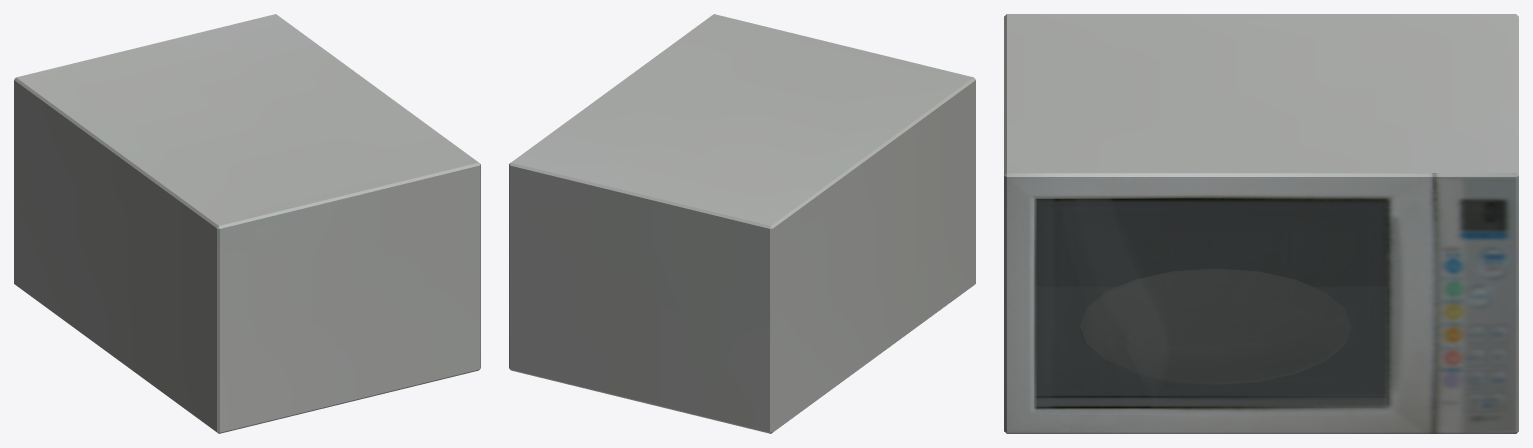
The model's file is ovenrange_A.fbx.
3 views of the same model, side by side, from view 1: azimuth 30°, elevation 25°; view 2: azimuth 150°, elevation 25°; view 3: azimuth 270°, elevation 25° (orthographic). The views are drawn at different scales.
Visible parts, largest first — view 1: ovenrange_A; view 2: ovenrange_A; view 3: ovenrange_A.
Part boxes in pixels (<box>): ovenrange_A: <box>14,14,480,433</box>; ovenrange_A: <box>509,14,975,433</box>; ovenrange_A: <box>1004,14,1518,433</box>.
Bounding box in the file's own units: 33.45 × 25.19 × 45.06.
Materials: 3 (2 with a texture image).
